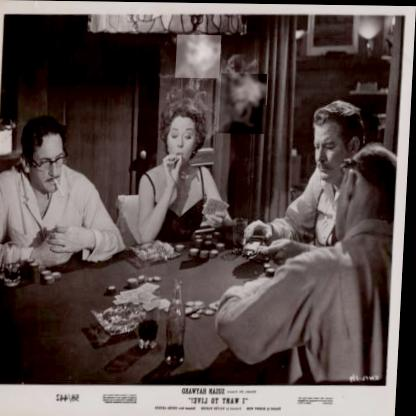smoke: (220, 73, 268, 133), (176, 34, 222, 78)
